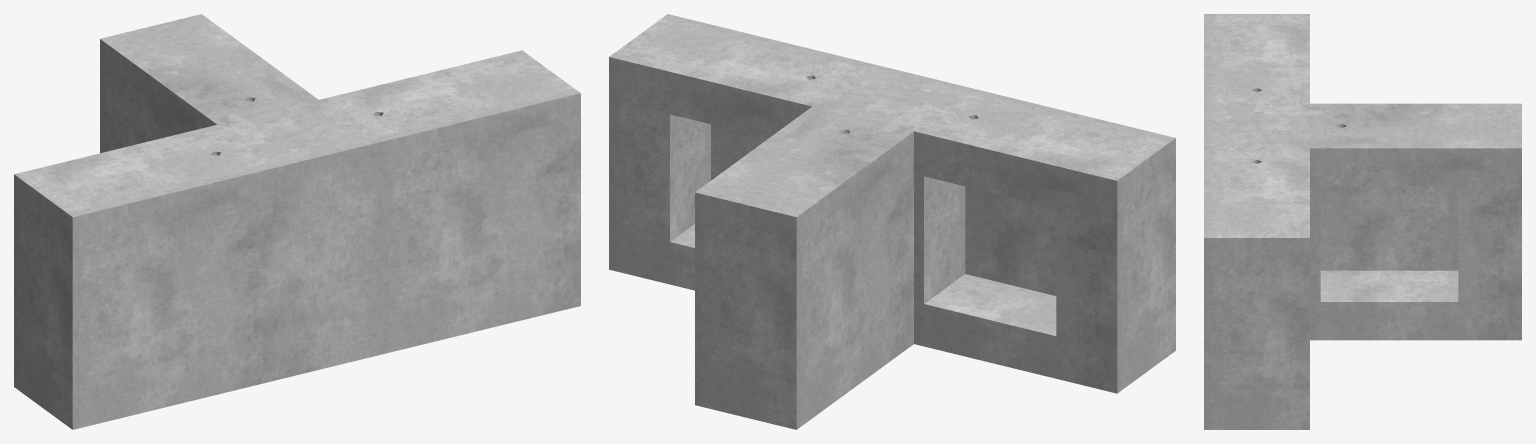
3 views of the same model, side by side, from view 1: azimuth 30°, elevation 25°; view 2: azimuth 150°, elevation 25°; view 3: azimuth 270°, elevation 25° (orthographic). The views are drawn at different scales.
Visible parts, largest first — view 1: SIMPUL; view 2: SIMPUL; view 3: SIMPUL.
Part boxes in pixels (box(x1,y1,x2,y2)): SIMPUL: box(14, 14, 580, 429); SIMPUL: box(609, 14, 1175, 429); SIMPUL: box(1204, 14, 1521, 429).
Size of the model in its own units: 1.64 by 0.6562 by 0.9843.
Materials: 1 (1 with a texture image).
